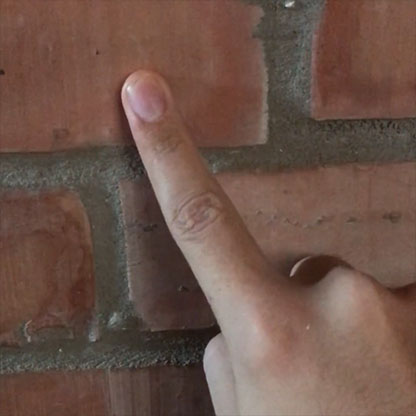fingertip: (112, 66, 189, 136)
